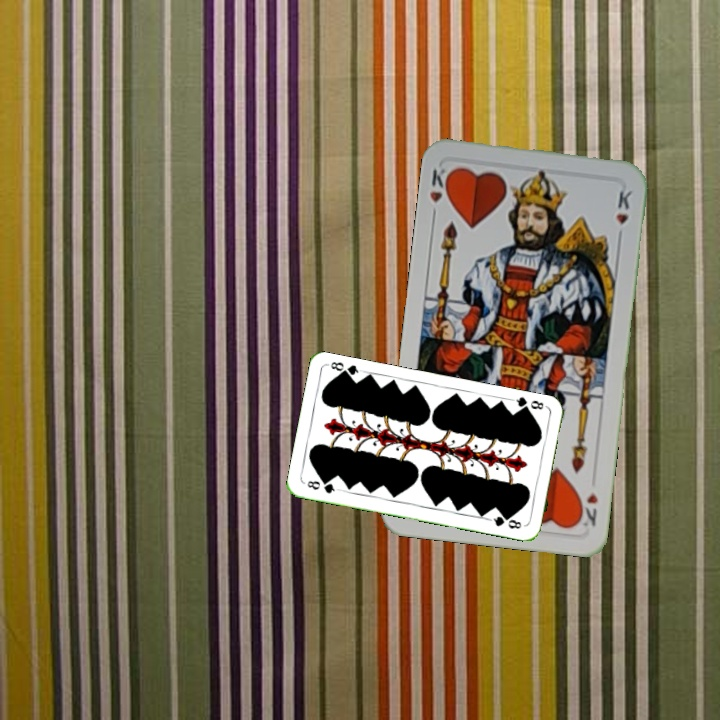G8: (509, 393, 550, 415), (303, 476, 341, 496)
HK: (425, 162, 455, 206), (573, 488, 601, 530)
